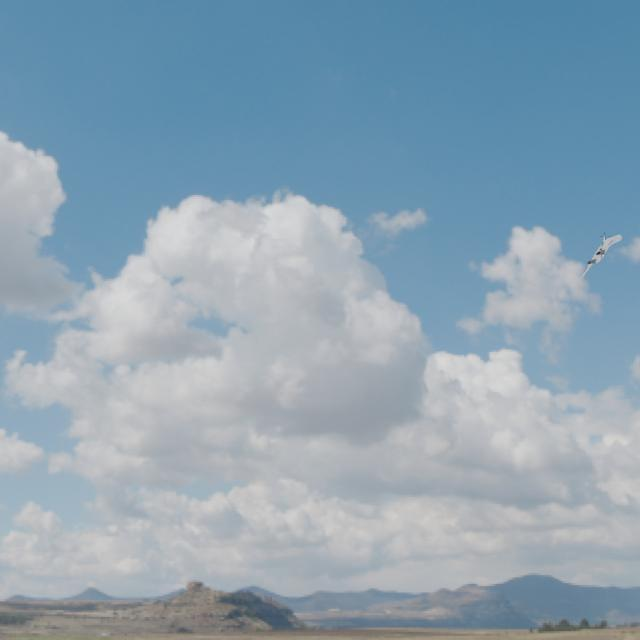Airaplan: (580, 232, 623, 283)
